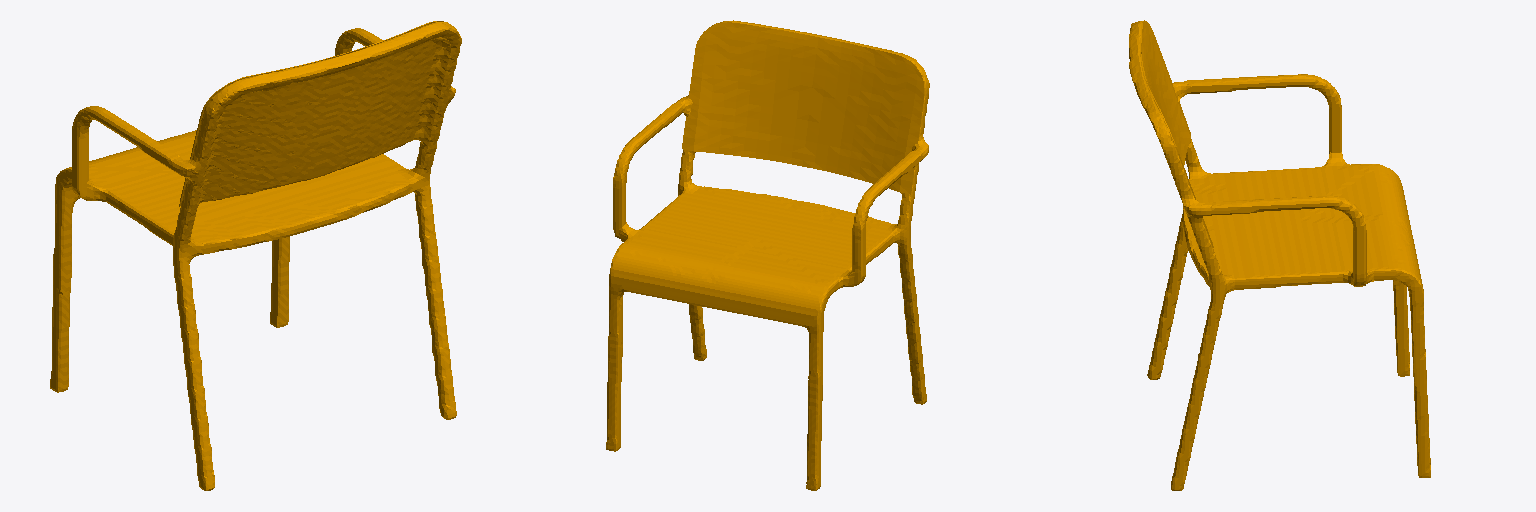
URDF robot description (03001627_9231ef07326eae09b04cb542e2c50eb4_object2):
<robot name="03001627_9231ef07326eae09b04cb542e2c50eb4_object2">
	<link name="_name">
		<visual>
			<origin xyz="-0.16215076685089178 2.3102100295524117 0.8198133263358472" rpy="0.0 0.0 0.0" />
			<geometry>
				<mesh filename="03001627_9231ef07326eae09b04cb542e2c50eb4_object2.obj" />
			</geometry>
		</visual>
		<collision>
			<origin rpy="0.0 0.0 0.0" xyz="-0.16215076685089178 2.3102100295524117 0.8198133263358472" />
			<geometry>
				<mesh filename="03001627_9231ef07326eae09b04cb542e2c50eb4_object2_vhacd.obj" />
			</geometry>
		</collision>
		<inertial>
			<origin rpy="0 0 0" xyz="0 0 0" />
			<mass value="1.0" />
			<inertia ixx="0.001" ixy="0.0" ixz="0.0" iyy="0.001" iyz="0.0" izz="0.001" />
		</inertial>
	</link>
</robot>

--- Render facts (derived) ---
Views: 3 orthographic renders of the robot side by side, from view 1: azimuth 30°, elevation 25°; view 2: azimuth 150°, elevation 25°; view 3: azimuth 270°, elevation 25°.
Model 03001627_9231ef07326eae09b04cb542e2c50eb4_object2 with 1 links and 0 joints (none), rooted at _name, posed every joint at zero.
Links seen in each view (by area): view 1: _name; view 2: _name; view 3: _name.
Link boxes in pixels (x1=…): _name: x1=50, y1=21, x2=461, y2=490; _name: x1=606, y1=20, x2=929, y2=490; _name: x1=1129, y1=20, x2=1430, y2=490.
Size in the robot's own frame: 0.5786 by 0.5571 by 0.7486 metres.
1 mesh visuals loaded from 1 distinct referenced files (1 OBJ).
